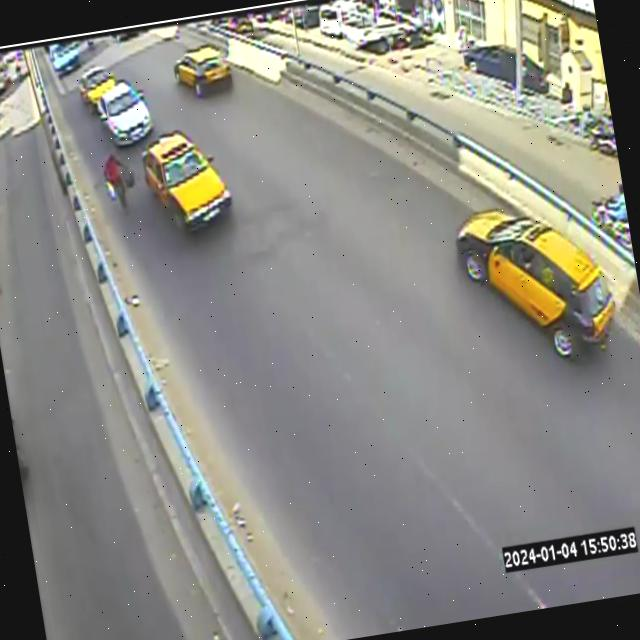car: (456, 210, 616, 359), (142, 132, 232, 229), (98, 82, 152, 146), (174, 45, 232, 97), (49, 42, 81, 77)
